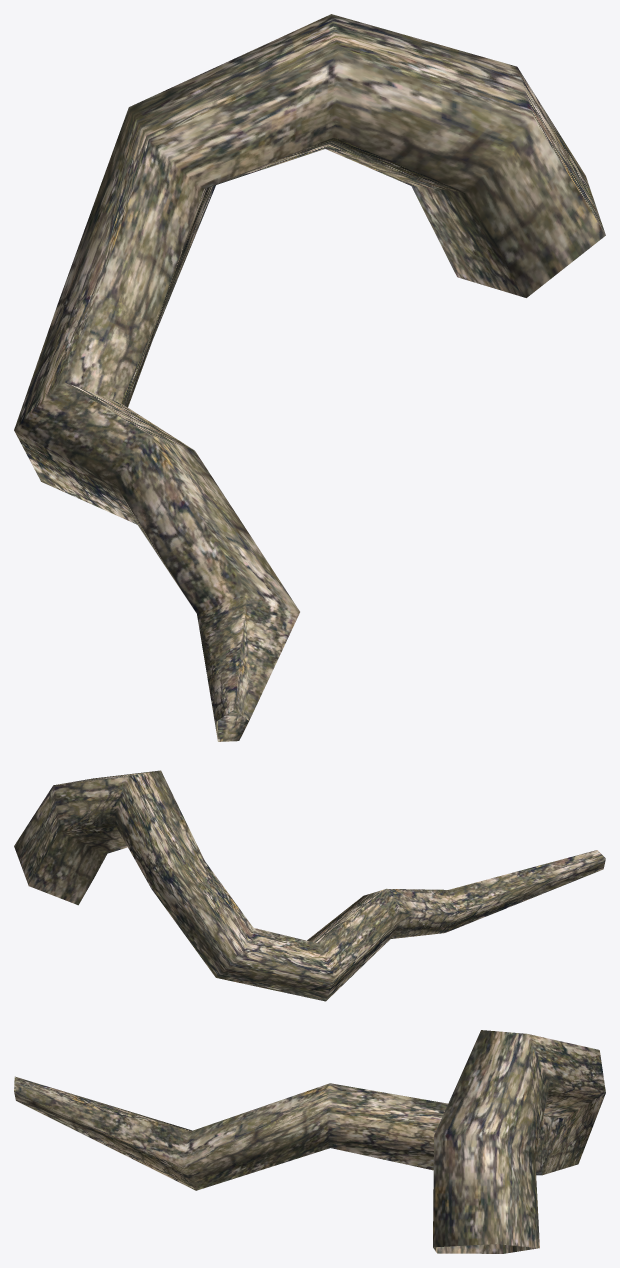
The model's file is OVERHILL_A_01_LINE328.fbx.
3 renders of one model, top to bottom at view 1: azimuth 30°, elevation 25°; view 2: azimuth 150°, elevation 25°; view 3: azimuth 270°, elevation 25°, orthographic. The views are drawn at different scales.
Visible parts, largest first — view 1: OVERHILL_A_01_LINE328; view 2: OVERHILL_A_01_LINE328; view 3: OVERHILL_A_01_LINE328.
Part boxes in pixels (left/top/right/bottom): OVERHILL_A_01_LINE328: left=14, top=14, right=605, bottom=741; OVERHILL_A_01_LINE328: left=14, top=770, right=605, bottom=1001; OVERHILL_A_01_LINE328: left=14, top=1030, right=605, bottom=1253.
Size of the model in its own units: 62327 by 30940 by 65480.
Materials: 1 (1 with a texture image).
